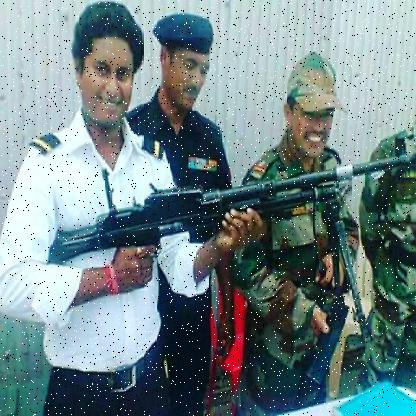rifle: (44, 152, 415, 360)
